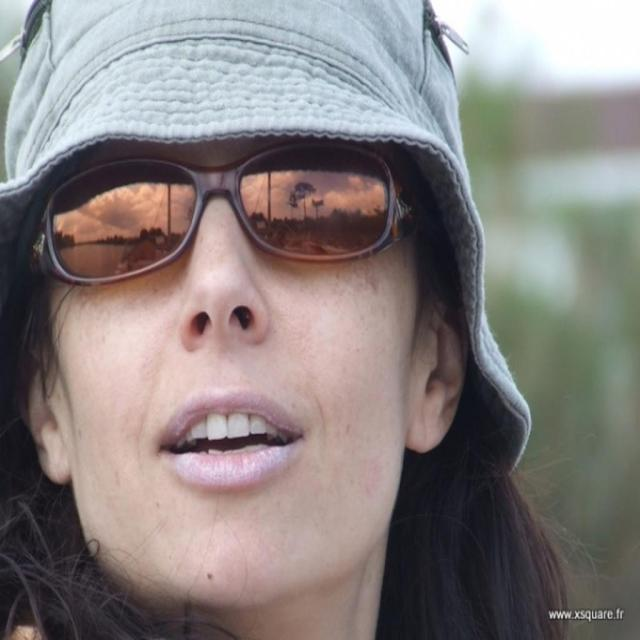Face: (39, 122, 446, 594)
